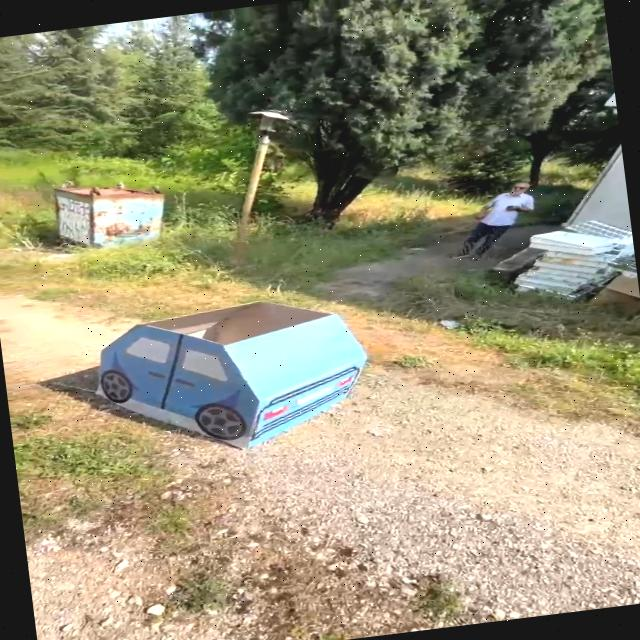blue_car: (45, 257, 380, 480)
